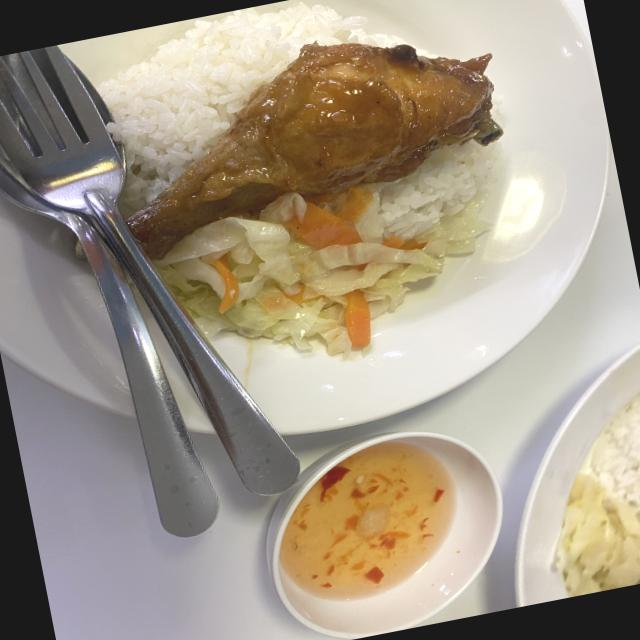bap cai xao: (157, 187, 474, 357), (555, 468, 640, 597)
com: (97, 2, 399, 211), (358, 144, 493, 240), (583, 393, 640, 515)
ga chien: (129, 44, 493, 259)
nuoc mam: (279, 442, 455, 599)
